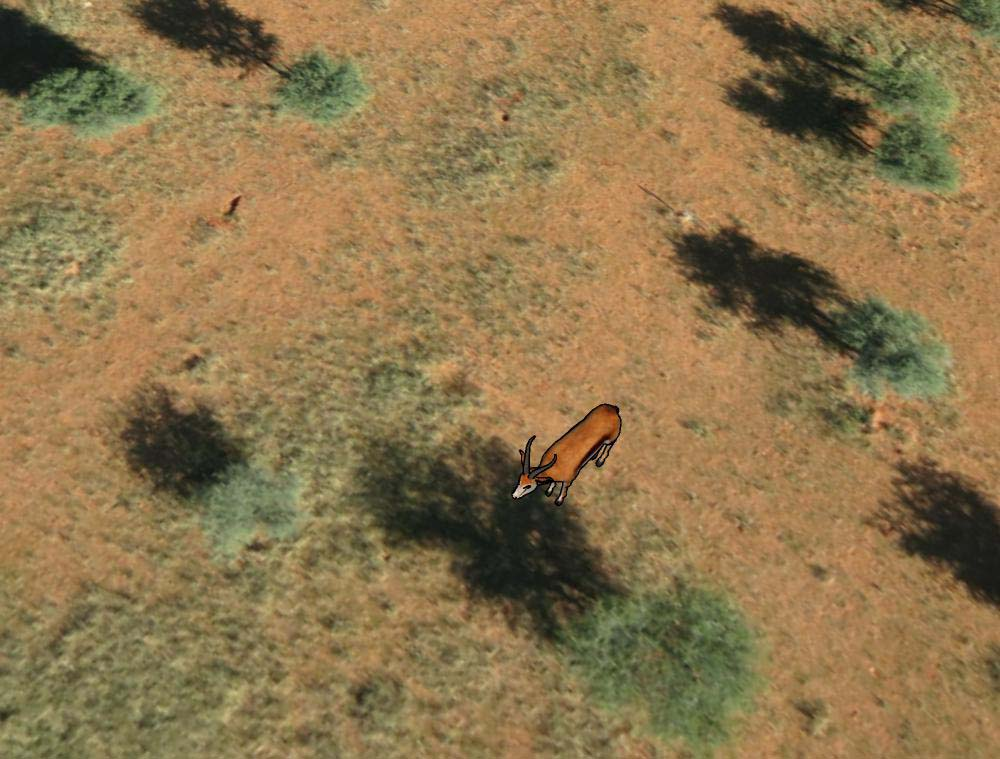springbok: (512, 400, 626, 510)
